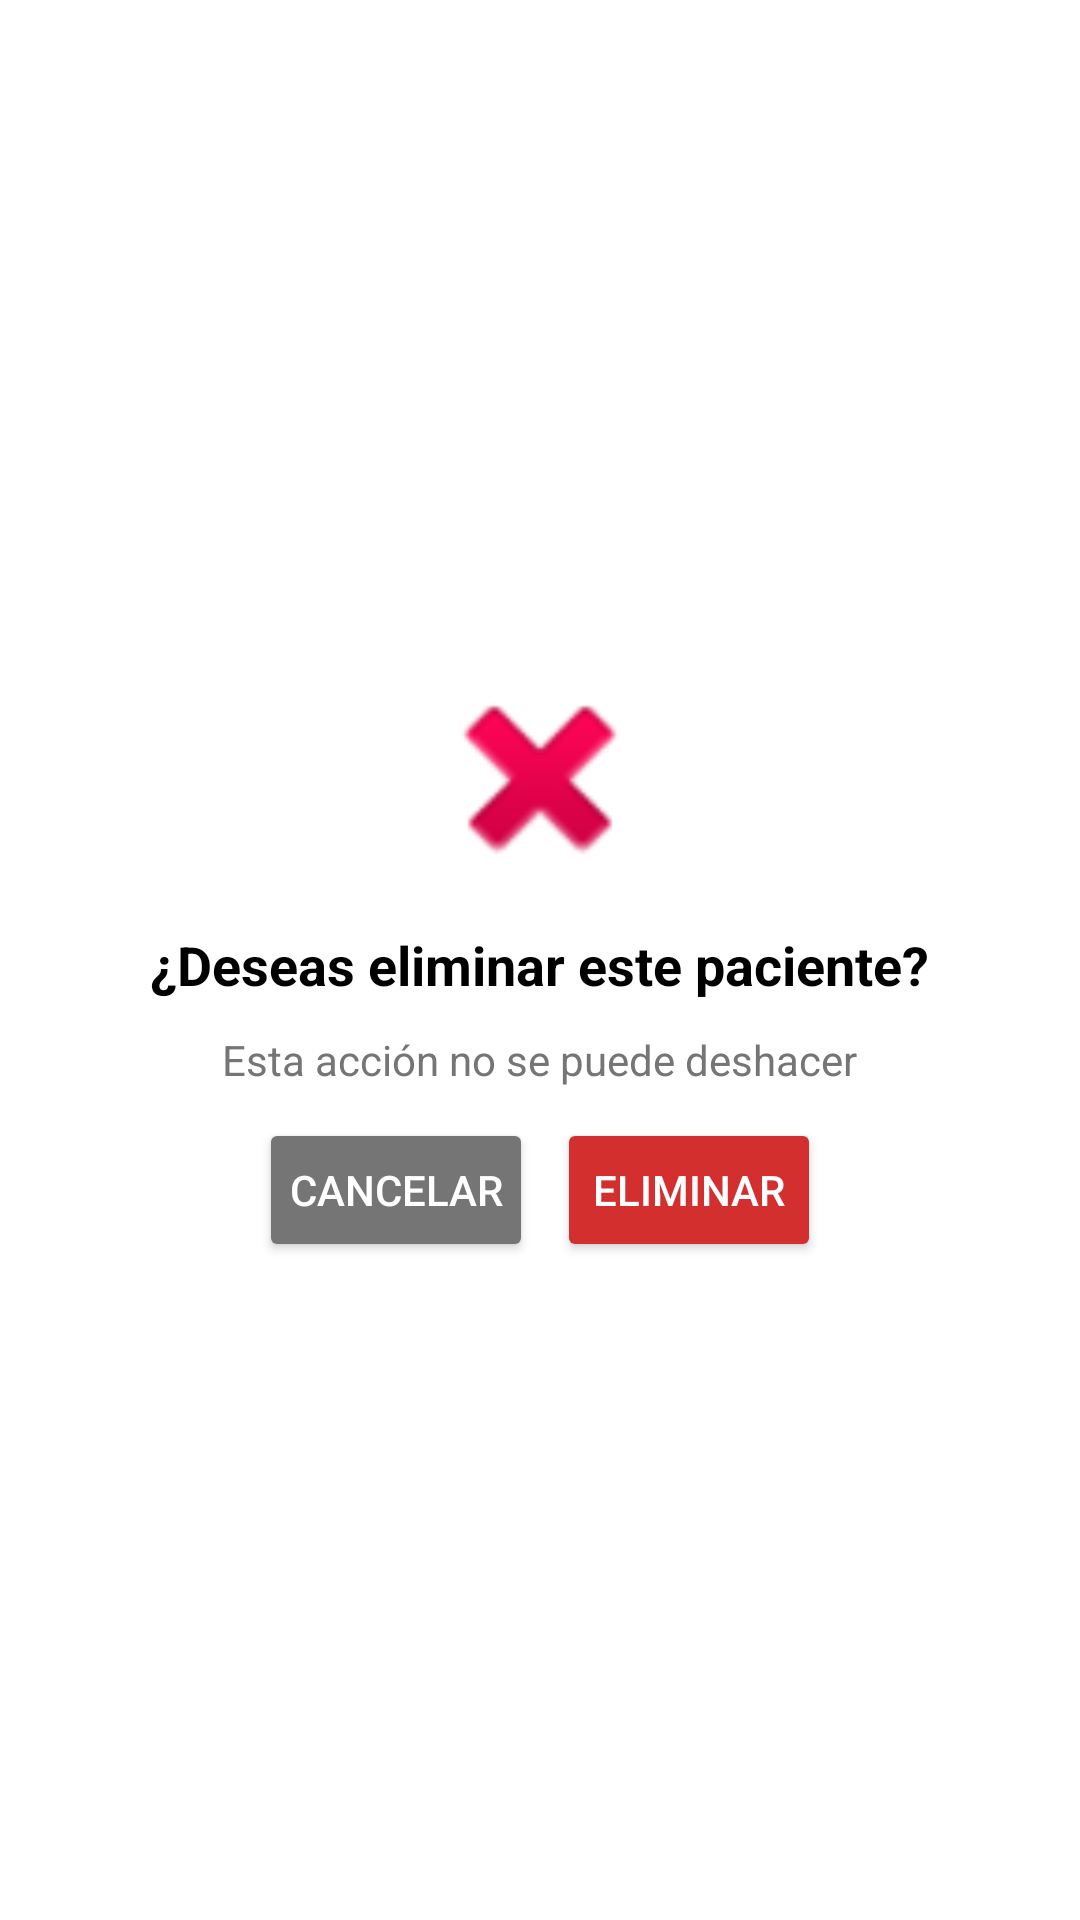

Screen size 1080x1920. Icon name, then its box in pixels as rect(x1, y1, x2, y2):
delete: rect(464, 705, 616, 853)
